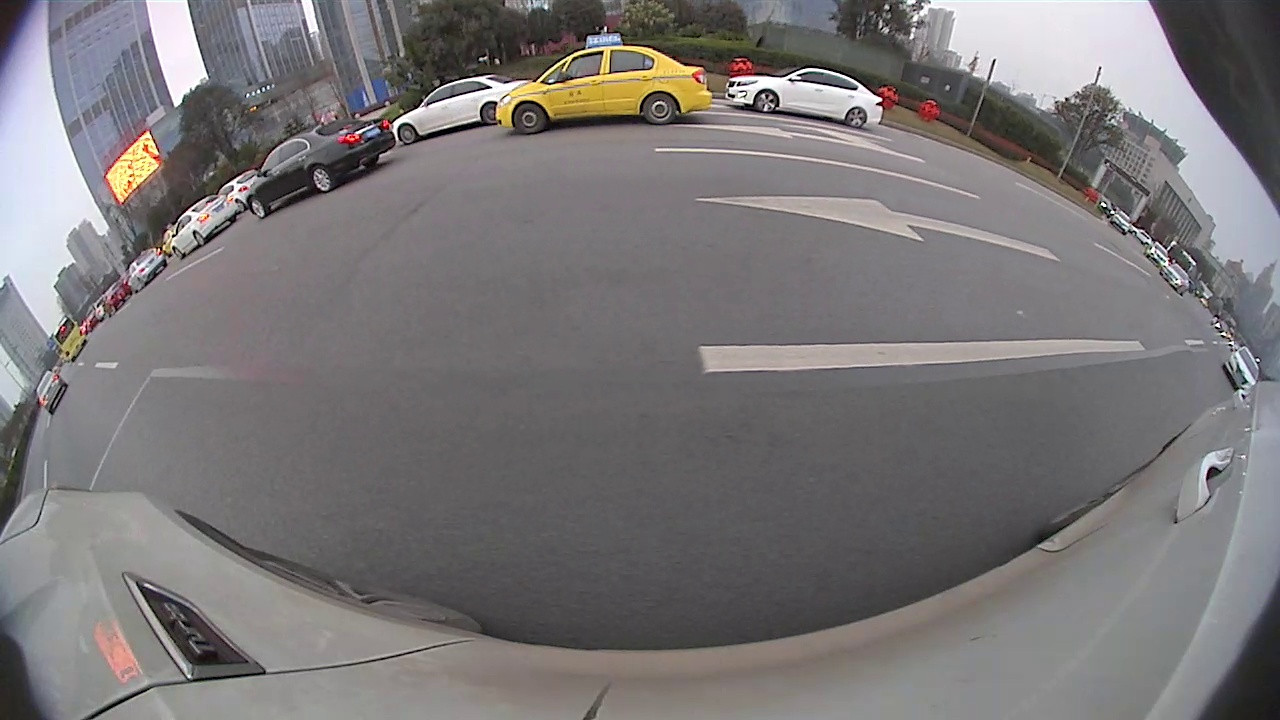bus: (51, 314, 88, 361)
car: (495, 30, 712, 139), (245, 118, 398, 213), (724, 63, 884, 132), (391, 73, 532, 149), (168, 193, 236, 262), (218, 169, 263, 213), (1222, 345, 1263, 391), (34, 366, 68, 414)
front: (511, 100, 549, 135), (753, 89, 779, 114), (248, 195, 271, 219), (397, 123, 418, 145)
rear: (640, 91, 677, 126), (309, 164, 336, 193), (479, 101, 500, 127), (844, 106, 867, 129), (364, 155, 379, 169)
